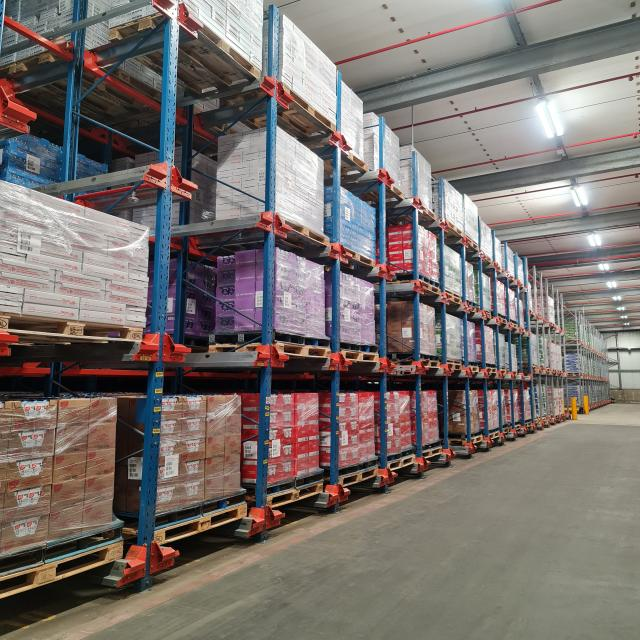Carton: (0, 180, 148, 326), (0, 398, 114, 555), (157, 395, 239, 516), (278, 15, 337, 125), (182, 0, 263, 70), (275, 125, 324, 234), (216, 128, 267, 219), (275, 248, 327, 337), (268, 394, 319, 483), (338, 393, 375, 467), (339, 186, 376, 259), (340, 271, 374, 344), (444, 180, 478, 243), (340, 80, 365, 163), (386, 390, 411, 454), (387, 302, 415, 352), (387, 223, 413, 271), (417, 224, 438, 281), (384, 124, 400, 189), (416, 150, 433, 211), (422, 391, 439, 445), (445, 245, 462, 296), (419, 302, 435, 356), (445, 313, 462, 360), (487, 390, 499, 430), (470, 390, 481, 433), (484, 325, 495, 364), (467, 321, 476, 362), (499, 333, 505, 367)
